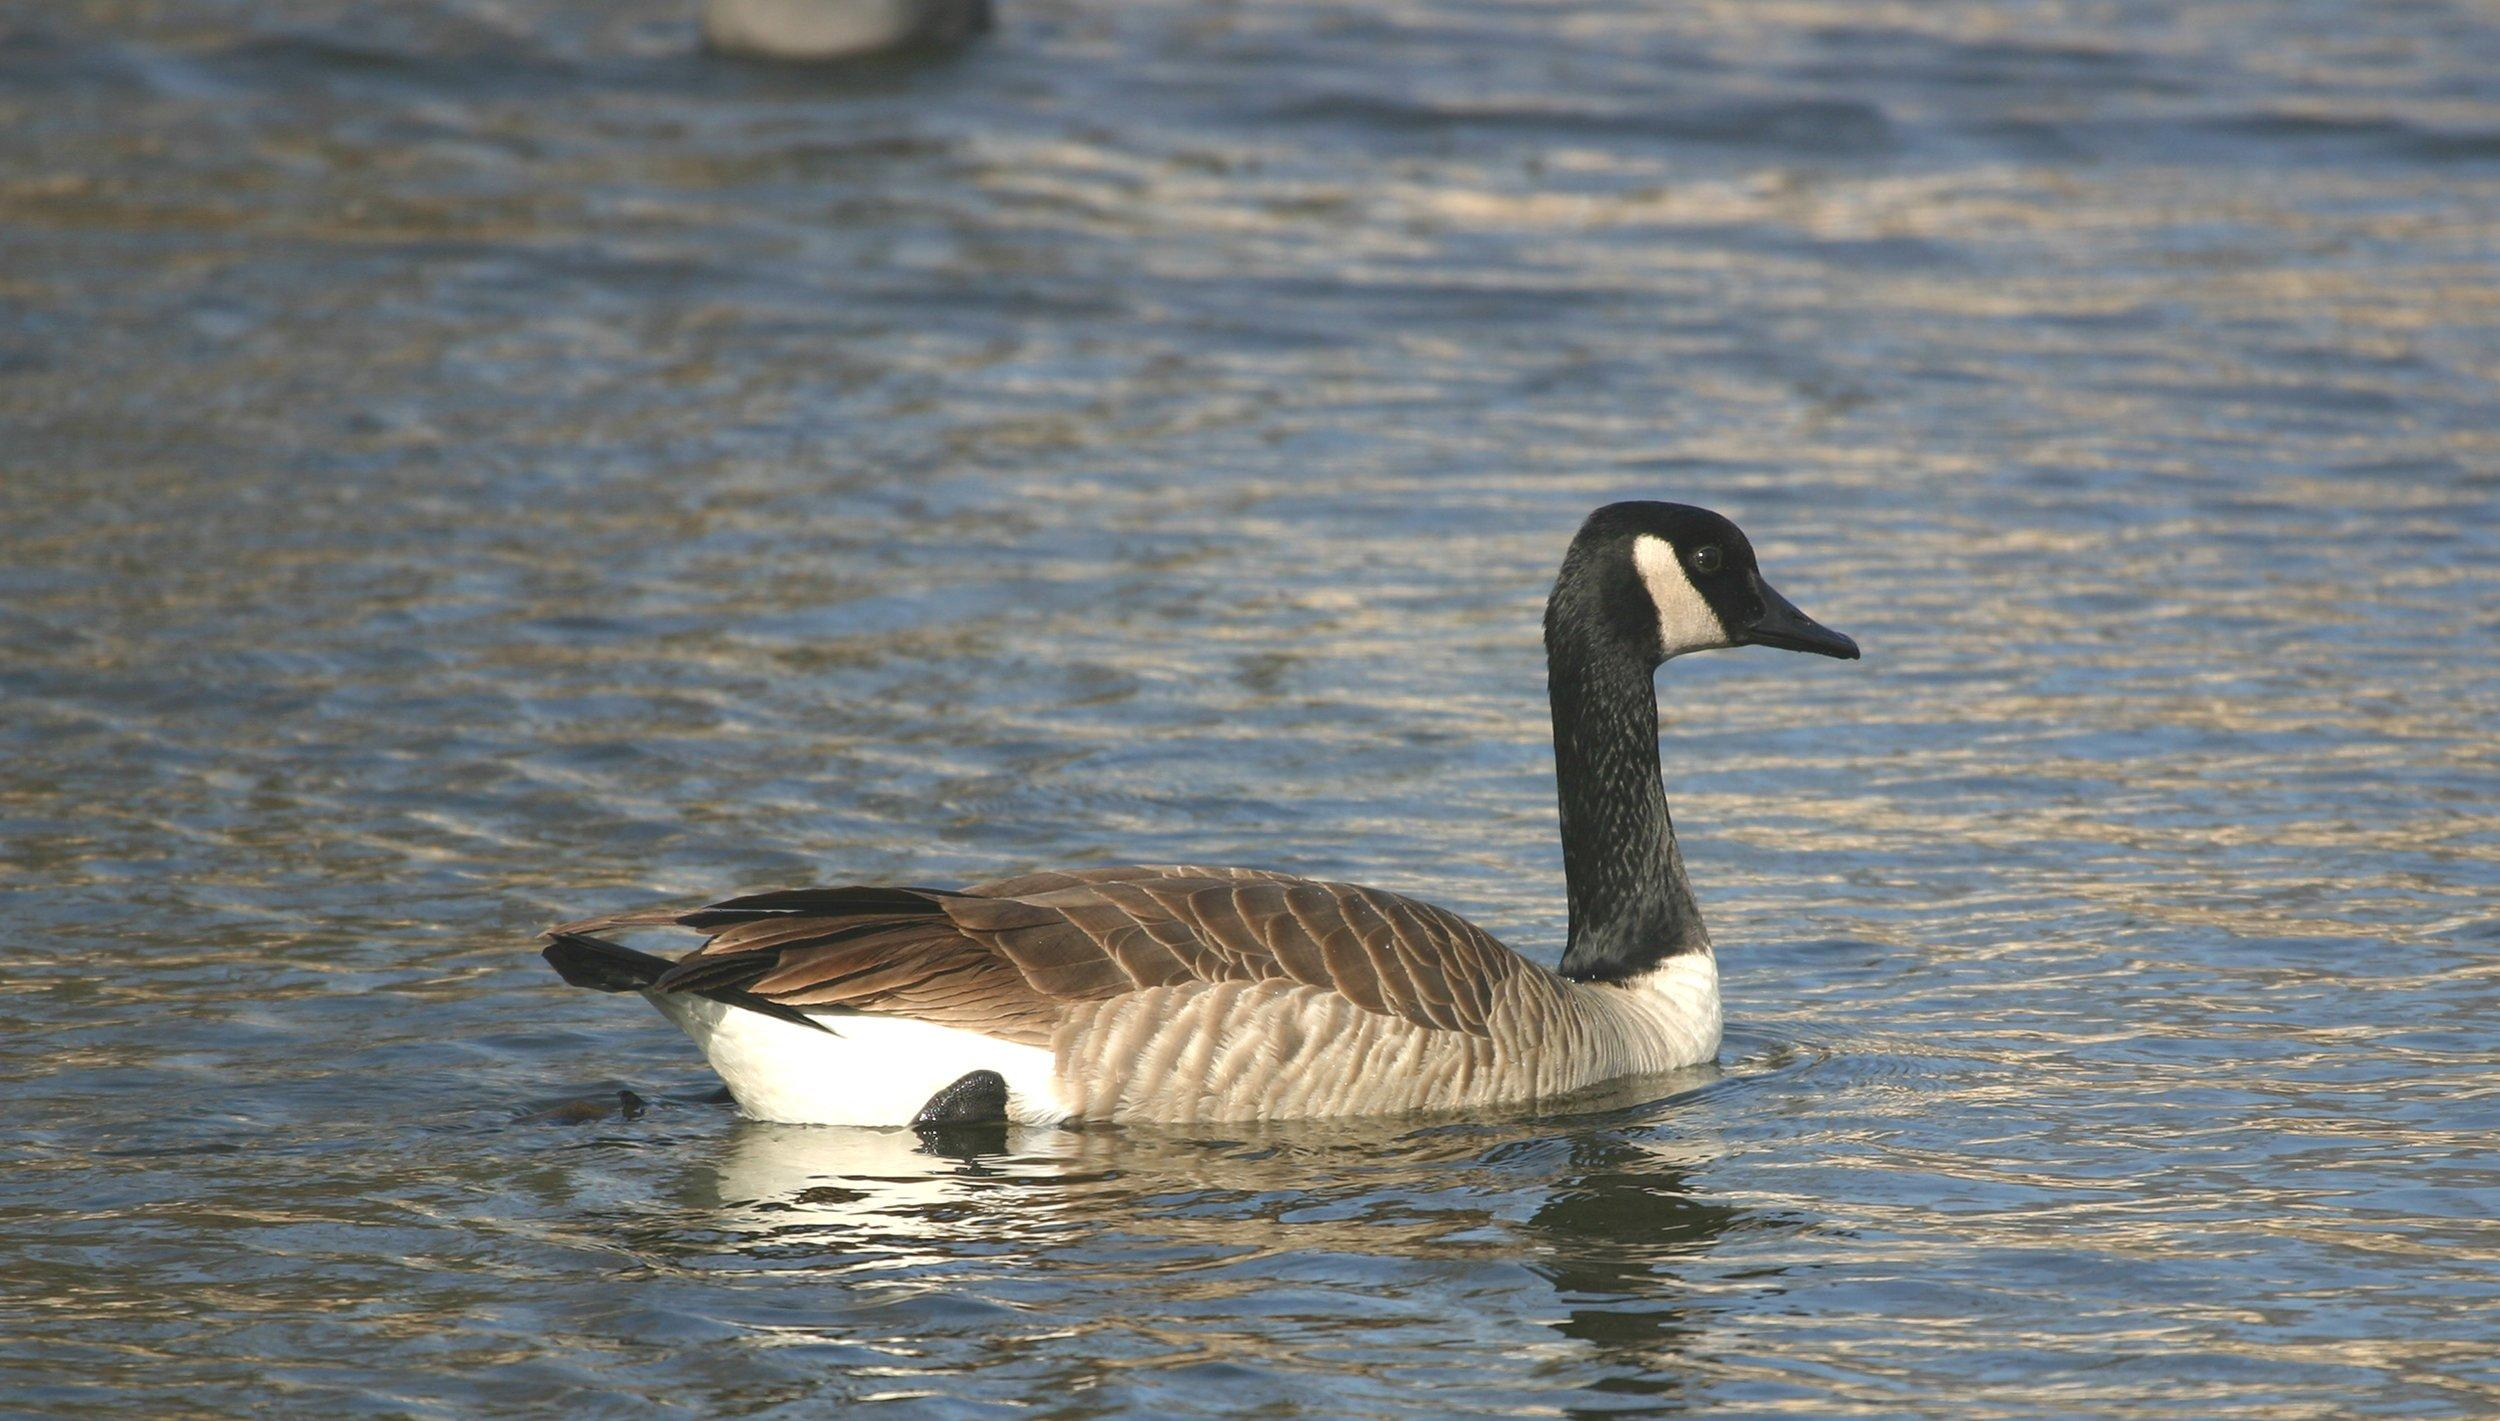Canadian-Goose: (558, 493, 1858, 1140)
